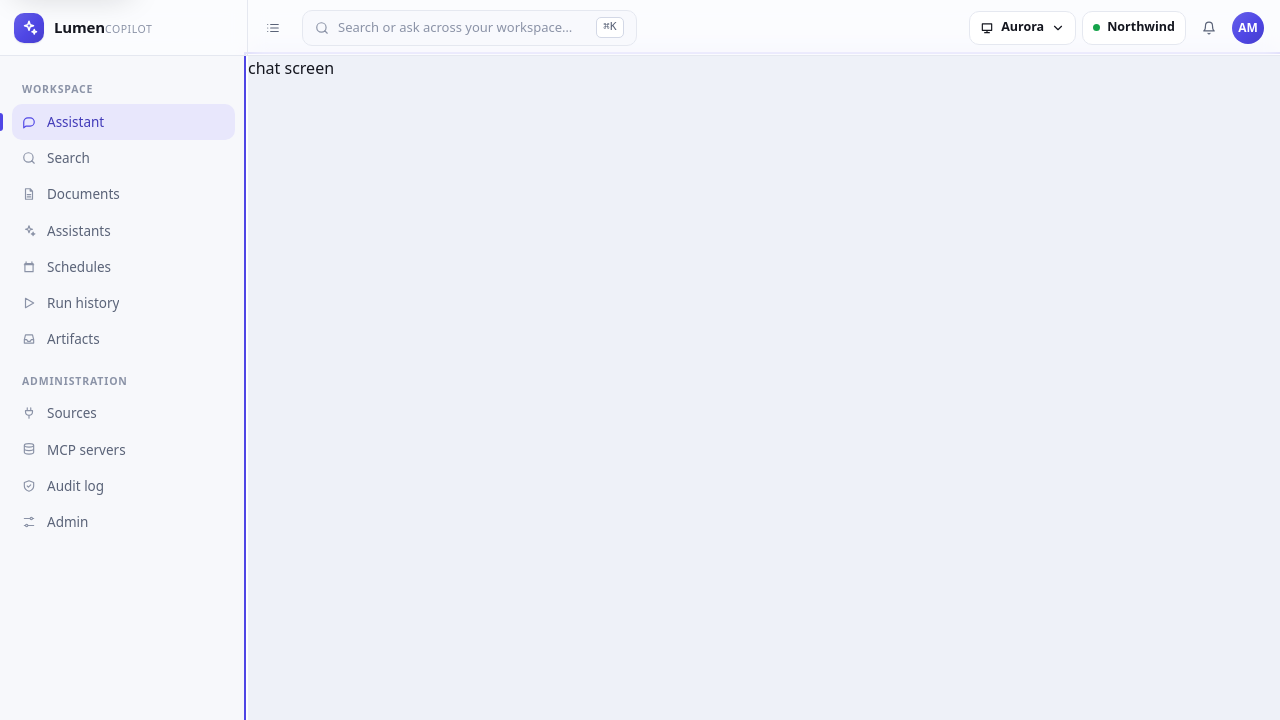
Test: AppShell › moves focus to <main> when the route changes (#163)
Click the link "Search" at (56, 158), box [22,149,90,167]
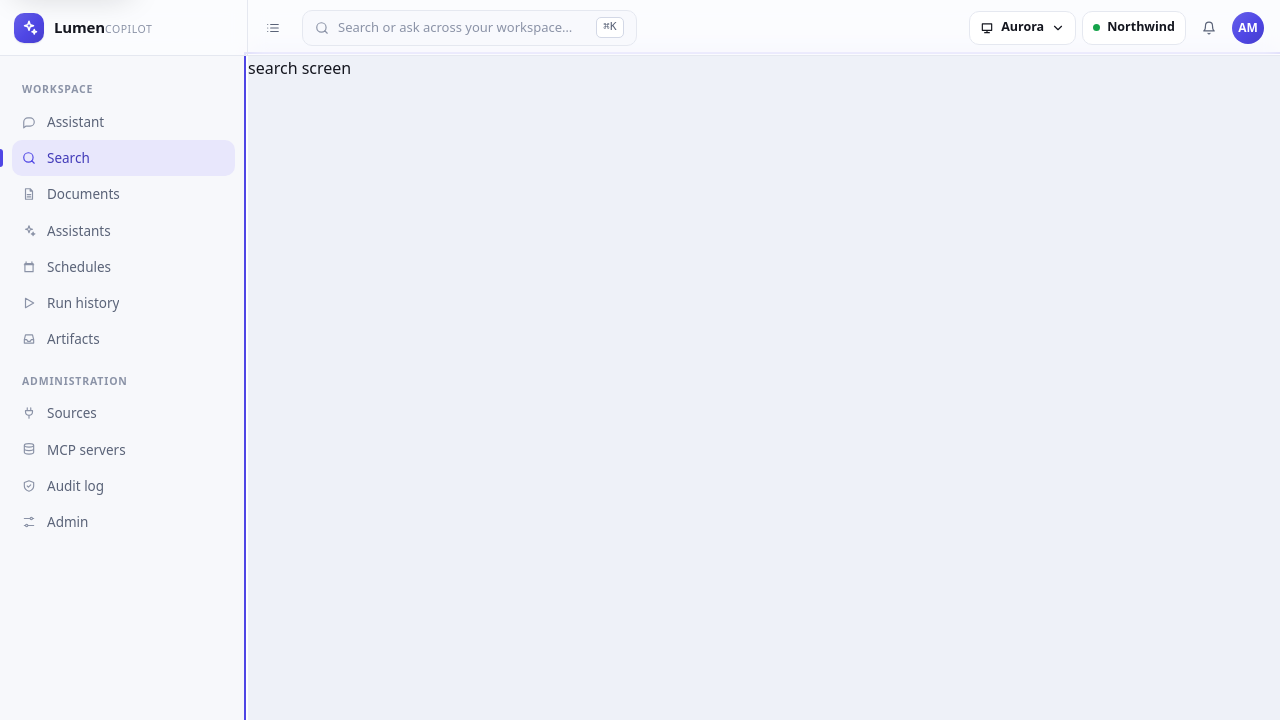
Now the text "search screen" is shown, box [248,57,351,79]
